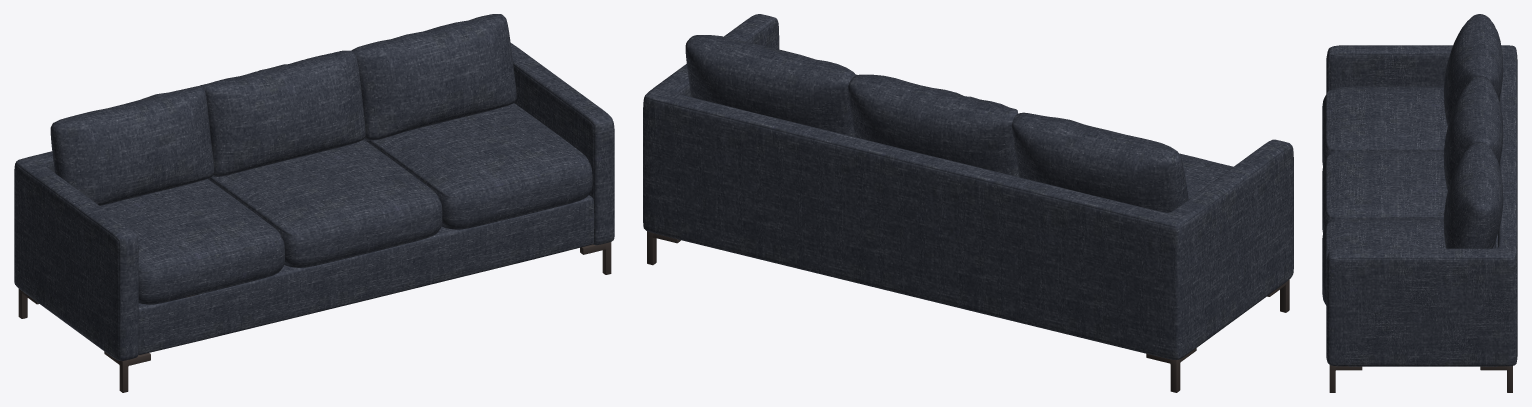
File: sofa_B07B4N1RTQ.glb
3 views of the same model, side by side, from view 1: azimuth 30°, elevation 25°; view 2: azimuth 150°, elevation 25°; view 3: azimuth 270°, elevation 25° (orthographic). The views are drawn at different scales.
Parts seen in each view (by area): view 1: RootNode; view 2: RootNode; view 3: RootNode.
Boxes of the visible parts, bbox=[...] form: RootNode: bbox=[14, 14, 614, 392]; RootNode: bbox=[643, 14, 1293, 392]; RootNode: bbox=[1322, 14, 1517, 392].
Bounding box in the file's own units: 2.22 × 0.8744 × 0.859.
Materials: 1 (1 with a texture image).
